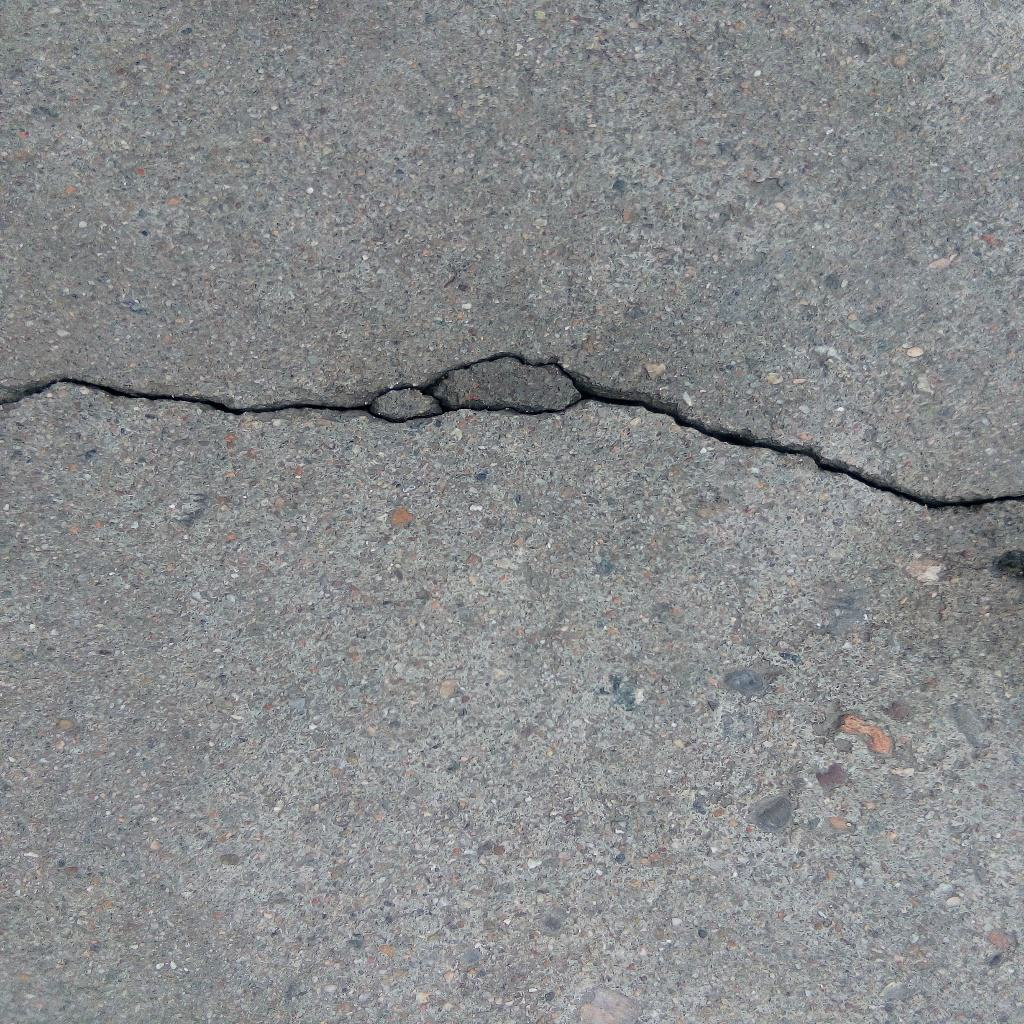Crack: (1, 348, 1024, 512)
